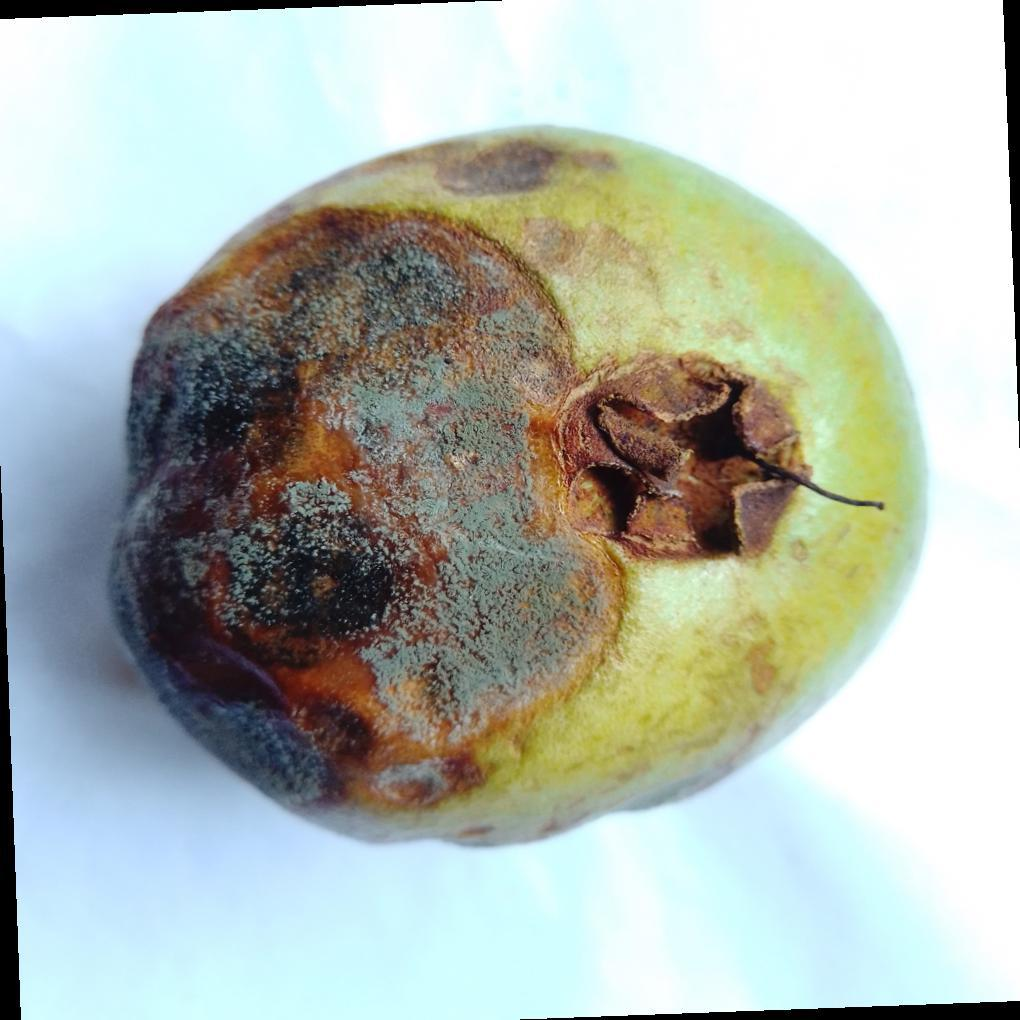FreshOrange: (107, 125, 933, 854)
